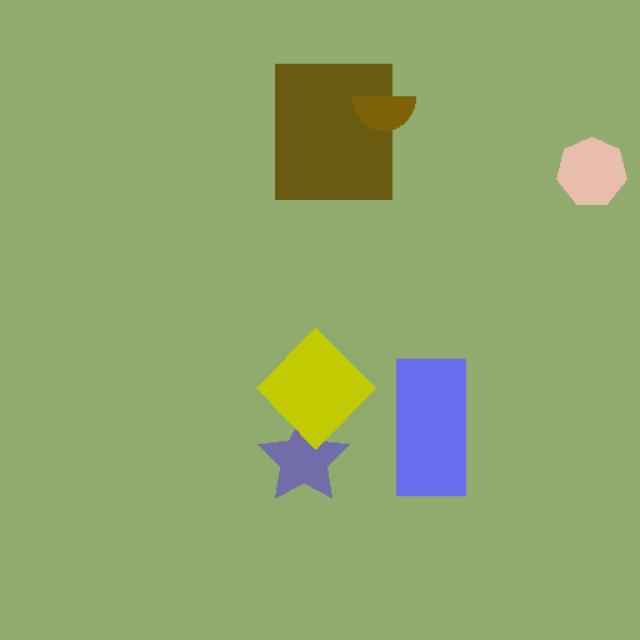Heptagon: (533, 128, 632, 215)
Kite: (240, 324, 381, 450)
Rectangle: (264, 56, 401, 210), (389, 346, 487, 510)
Semicircle: (347, 86, 431, 140)
Star: (250, 408, 362, 503)
